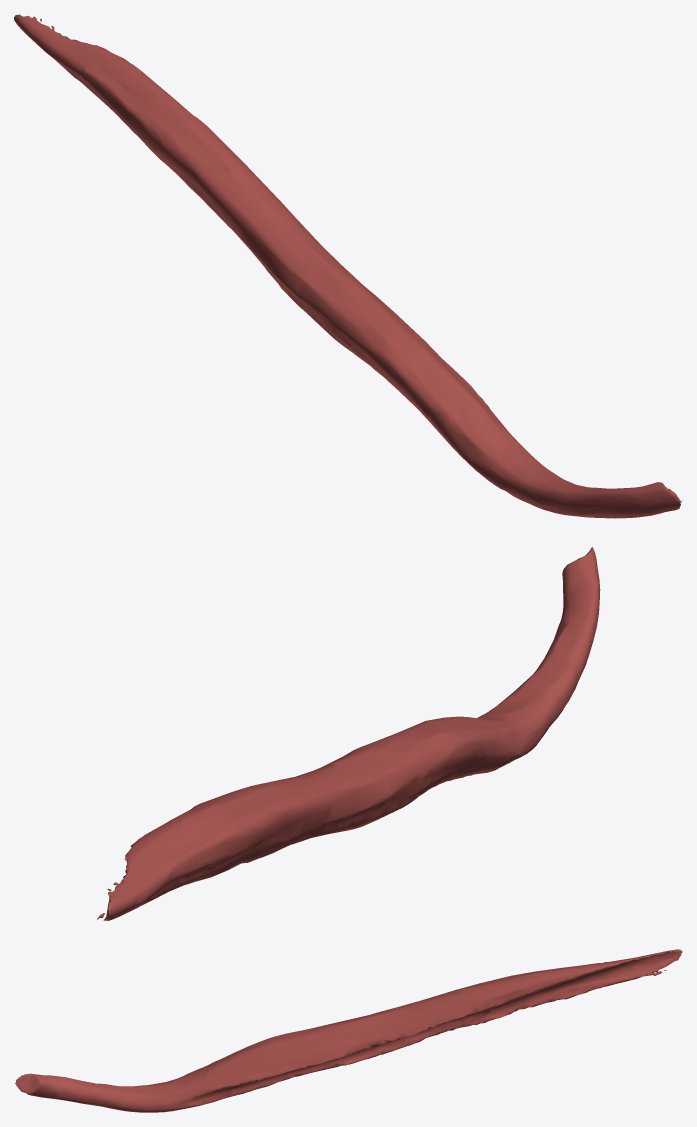
Rendered from FMA37718.glb.
3 views of the same model, one above another, from view 1: azimuth 30°, elevation 25°; view 2: azimuth 150°, elevation 25°; view 3: azimuth 270°, elevation 25° (orthographic). The views are drawn at different scales.
Parts seen in each view (by area): view 1: FMA37718; view 2: FMA37718; view 3: FMA37718.
Part boxes in pixels (bbox=[...]): FMA37718: bbox=[14, 14, 682, 518]; FMA37718: bbox=[97, 547, 600, 920]; FMA37718: bbox=[15, 949, 682, 1112].
Size of the model in its own units: 0.0151 by 0.0196 by 0.091.
